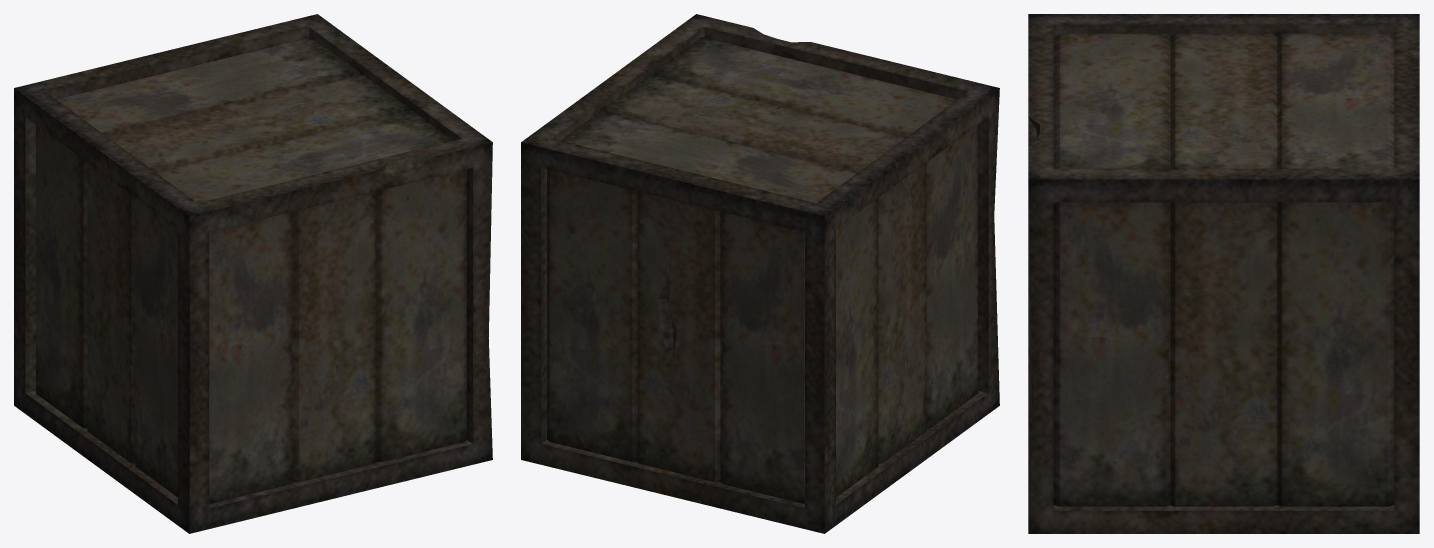
File: wooden_crate_3.obj
3 views of the same model, side by side, from view 1: azimuth 30°, elevation 25°; view 2: azimuth 150°, elevation 25°; view 3: azimuth 270°, elevation 25° (orthographic). The views are drawn at different scales.
Parts seen in each view (by area): view 1: wooden_crate_3; view 2: wooden_crate_3; view 3: wooden_crate_3.
Part boxes in pixels (left/top/right/bottom): wooden_crate_3: left=14, top=14, right=492, bottom=533; wooden_crate_3: left=521, top=14, right=999, bottom=533; wooden_crate_3: left=1028, top=14, right=1419, bottom=533.
Bounding box in the file's own units: 1.08 × 1.08 × 1.08.
